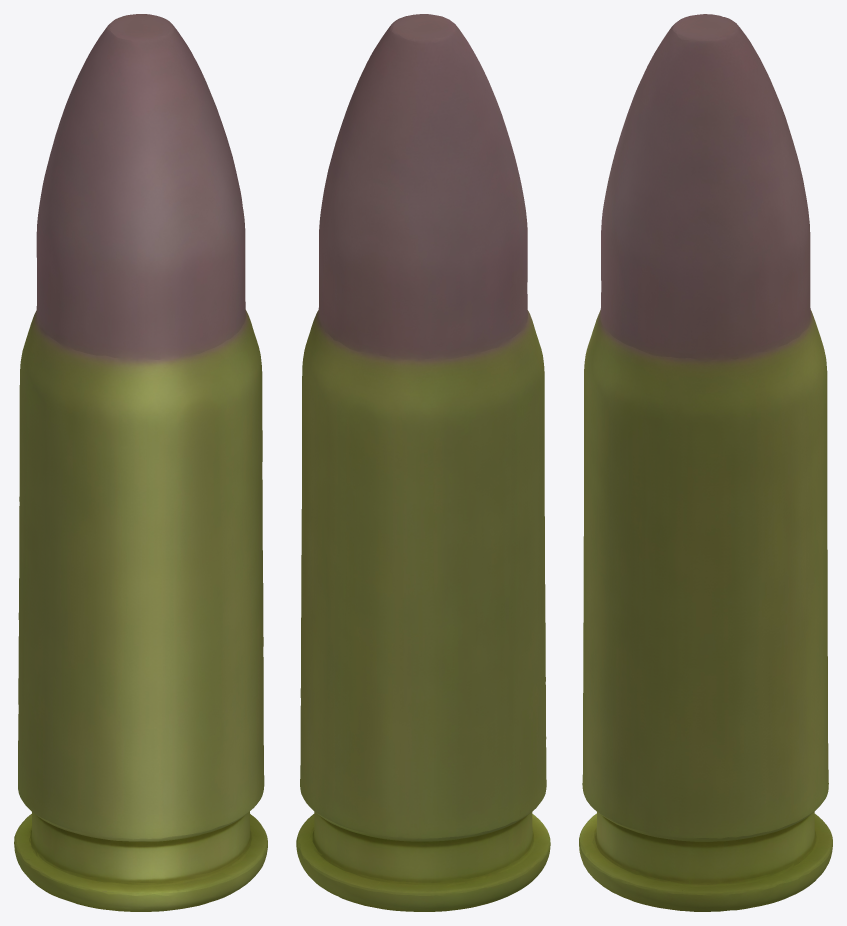
File: bullet.glb
3 renders of one model, left to right at view 1: azimuth 30°, elevation 25°; view 2: azimuth 150°, elevation 25°; view 3: azimuth 270°, elevation 25°, orthographic.
Visible parts, largest first — view 1: Mesh; view 2: Mesh; view 3: Mesh.
Boxes of the visible parts, x1,y1,x2,y2 form: Mesh: (14,14,267,911); Mesh: (296,14,550,911); Mesh: (579,14,832,911).
Bounding box in the file's own units: 0.5174 × 1.89 × 0.5181.
1 material, 1 textured.
